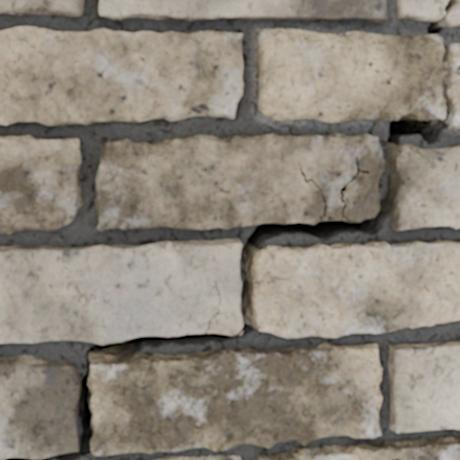brick: (89, 343, 381, 455), (95, 134, 384, 229), (0, 239, 241, 343), (0, 27, 242, 124), (252, 241, 459, 337), (0, 355, 79, 459), (0, 136, 81, 233), (388, 342, 459, 432), (99, 0, 386, 22), (390, 144, 459, 229), (258, 436, 459, 459), (0, 0, 83, 16), (154, 456, 240, 459)
broken_brick: (257, 28, 444, 123), (396, 0, 446, 22), (447, 42, 459, 129), (442, 0, 459, 27)
crack: (2, 0, 458, 459)
